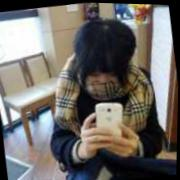WRONG: (81, 58, 128, 103)
